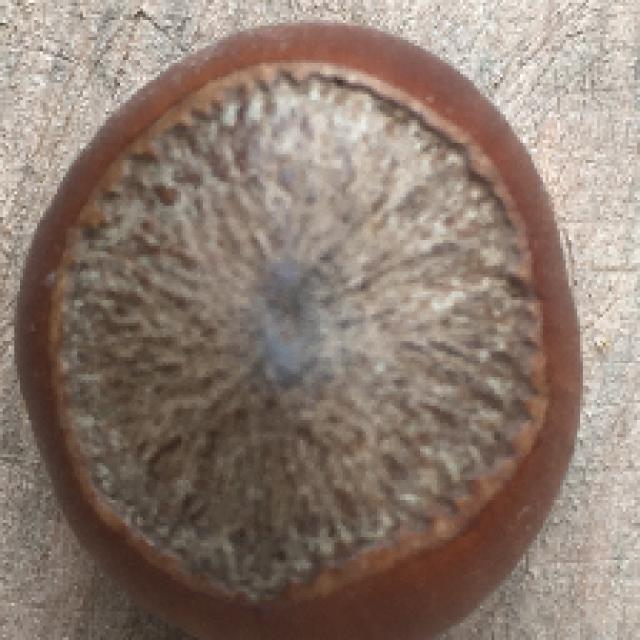DamagedHazelnut: (15, 25, 586, 637)
